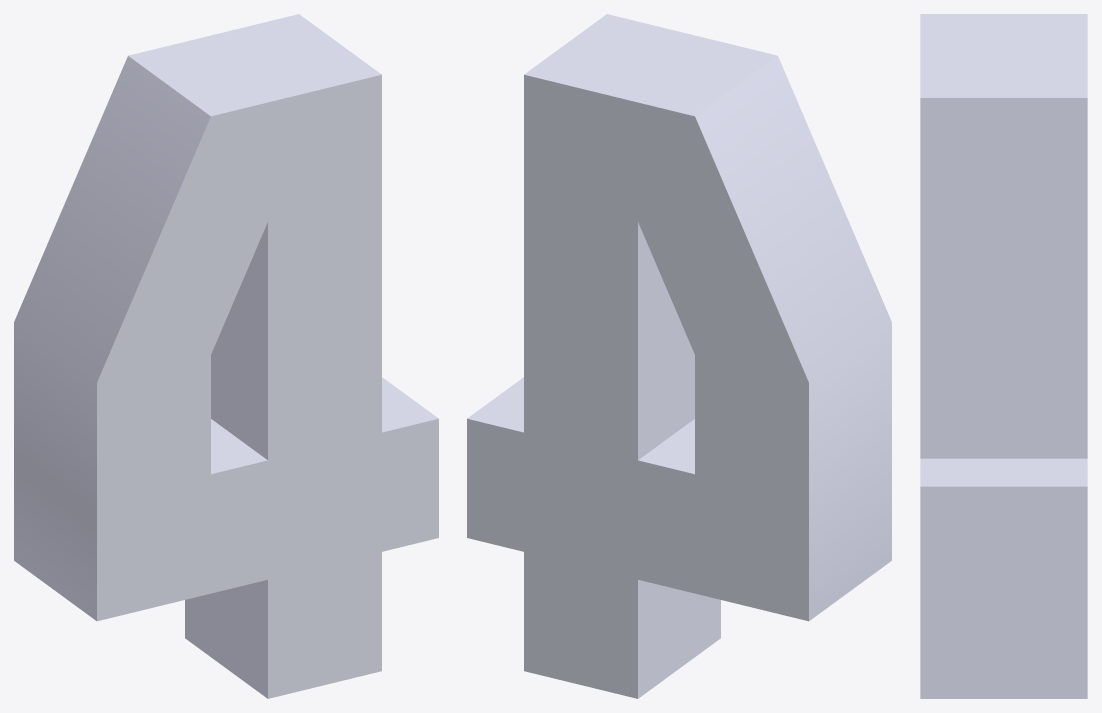
3 views of the same model, side by side, from view 1: azimuth 30°, elevation 25°; view 2: azimuth 150°, elevation 25°; view 3: azimuth 270°, elevation 25° (orthographic).
Visible parts, largest first — view 1: 4_DeltaBlock_Grey; view 2: 4_DeltaBlock_Grey; view 3: 4_DeltaBlock_Grey.
Part boxes in pixels (x1,y1,x2,y2): 4_DeltaBlock_Grey: (14,14,438,698); 4_DeltaBlock_Grey: (467,14,891,698); 4_DeltaBlock_Grey: (920,14,1087,698).
Size of what is drawn, in the model's own units: 0.1071 by 0.1786 by 0.045.
Materials: 2 (2 with a texture image).
